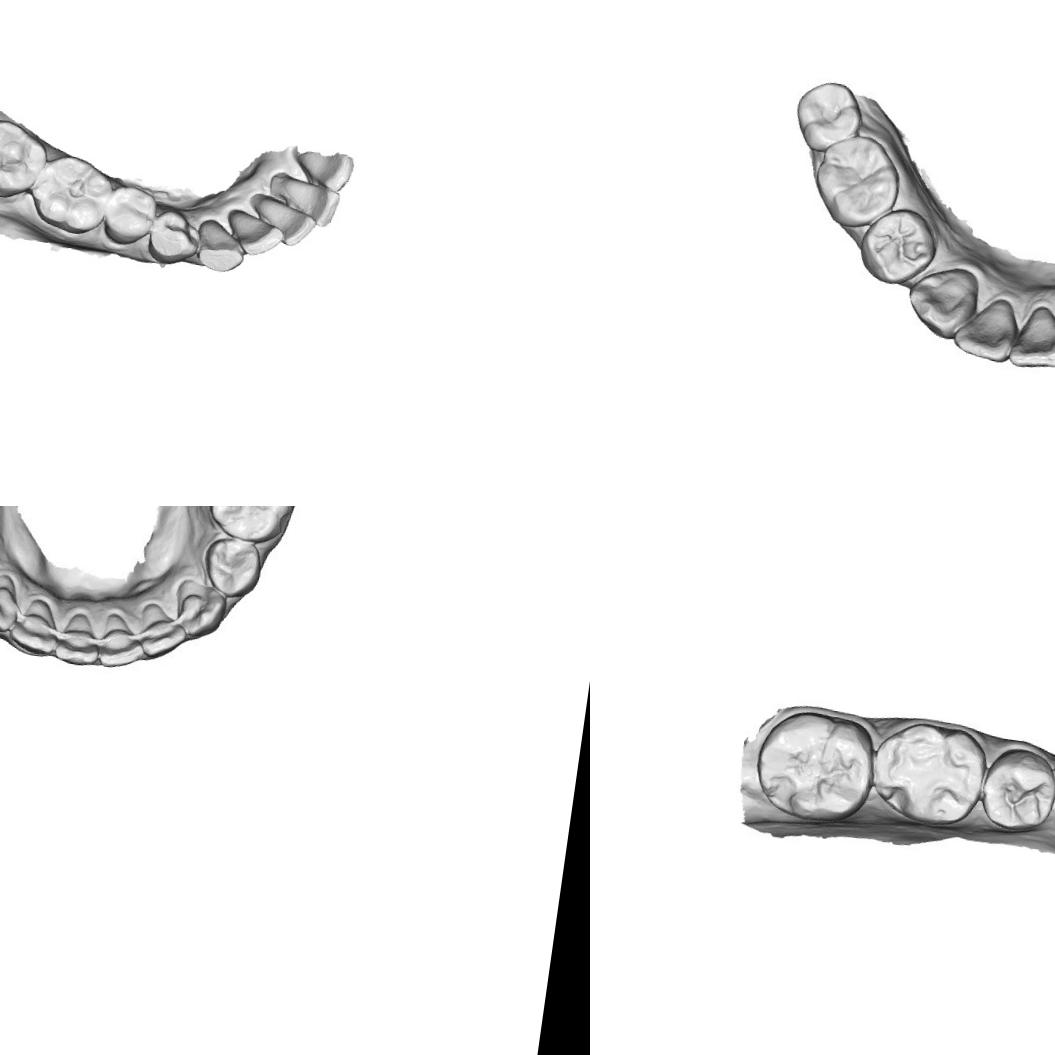canine: (904, 255, 979, 337), (192, 216, 249, 276), (175, 580, 231, 640), (0, 571, 19, 631)
incisor: (950, 286, 1025, 364), (262, 167, 346, 231), (1006, 297, 1055, 376), (251, 196, 320, 250), (222, 206, 288, 260), (288, 150, 356, 194), (138, 602, 189, 658), (55, 614, 104, 672), (98, 613, 146, 672), (12, 600, 59, 654)
molar: (752, 706, 882, 831), (864, 716, 991, 836), (808, 128, 910, 230), (28, 150, 118, 240), (796, 78, 866, 156), (0, 113, 53, 205), (210, 506, 300, 543)
premolar: (979, 743, 1055, 839), (858, 204, 940, 286), (198, 535, 264, 604), (98, 180, 163, 250), (146, 205, 204, 269)
